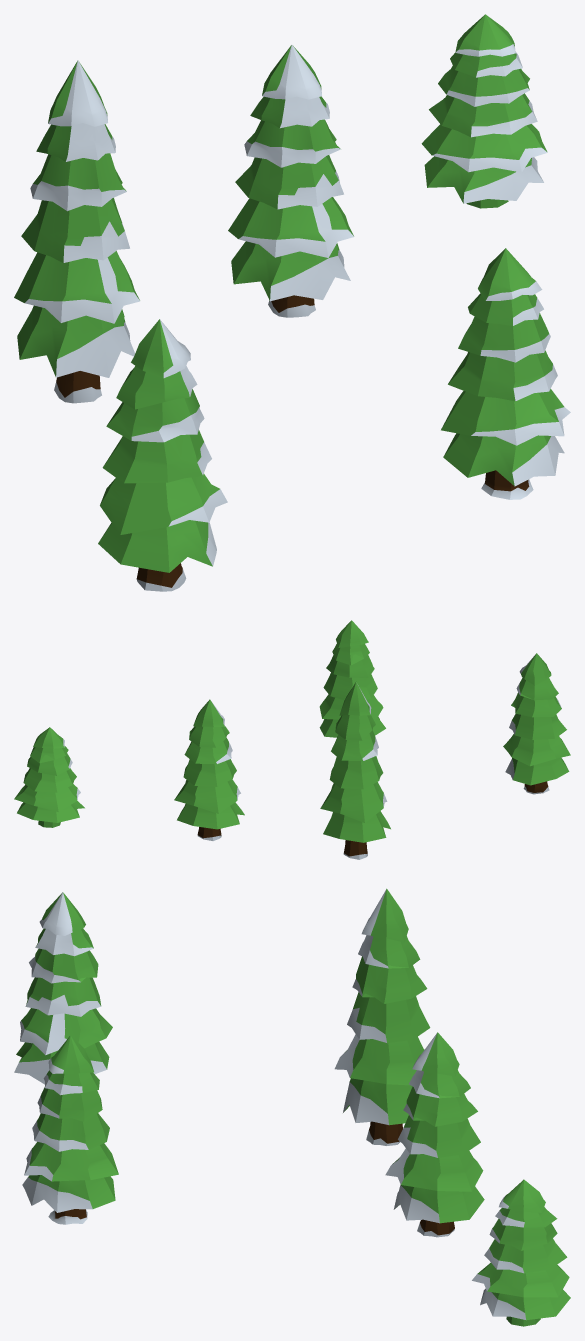
The model's file is fir_tree_set_with_snow.glb.
The picture shows the model from 3 angles, top to bottom: view 1: azimuth 30°, elevation 25°; view 2: azimuth 150°, elevation 25°; view 3: azimuth 270°, elevation 25°; orthographic projection. The views are drawn at different scales.
Visible parts, largest first — view 1: FirTreeSnowD, FirTreeSnowB, FirTreeSnowE, FirTreeSnowC, FirTreeSnowA; view 2: FirTreeSnowD, FirTreeSnowB, FirTreeSnowE, FirTreeSnowA, FirTreeSnowC; view 3: FirTreeSnowD, FirTreeSnowE, FirTreeSnowC, FirTreeSnowB, FirTreeSnowA.
Part boxes in pixels (bbox=[...]): FirTreeSnowD: bbox=[14, 60, 139, 403]; FirTreeSnowB: bbox=[98, 319, 227, 591]; FirTreeSnowE: bbox=[228, 45, 354, 317]; FirTreeSnowC: bbox=[441, 248, 570, 499]; FirTreeSnowA: bbox=[421, 14, 547, 208]; FirTreeSnowD: bbox=[320, 682, 390, 859]; FirTreeSnowB: bbox=[503, 653, 570, 794]; FirTreeSnowE: bbox=[174, 699, 244, 840]; FirTreeSnowA: bbox=[14, 727, 84, 827]; FirTreeSnowC: bbox=[319, 620, 385, 737]; FirTreeSnowD: bbox=[334, 888, 430, 1145]; FirTreeSnowE: bbox=[385, 1032, 484, 1237]; FirTreeSnowC: bbox=[22, 1035, 118, 1224]; FirTreeSnowB: bbox=[14, 892, 112, 1084]; FirTreeSnowA: bbox=[472, 1179, 570, 1326].
Bounding box in the file's own units: 1438 × 623 × 1246.
